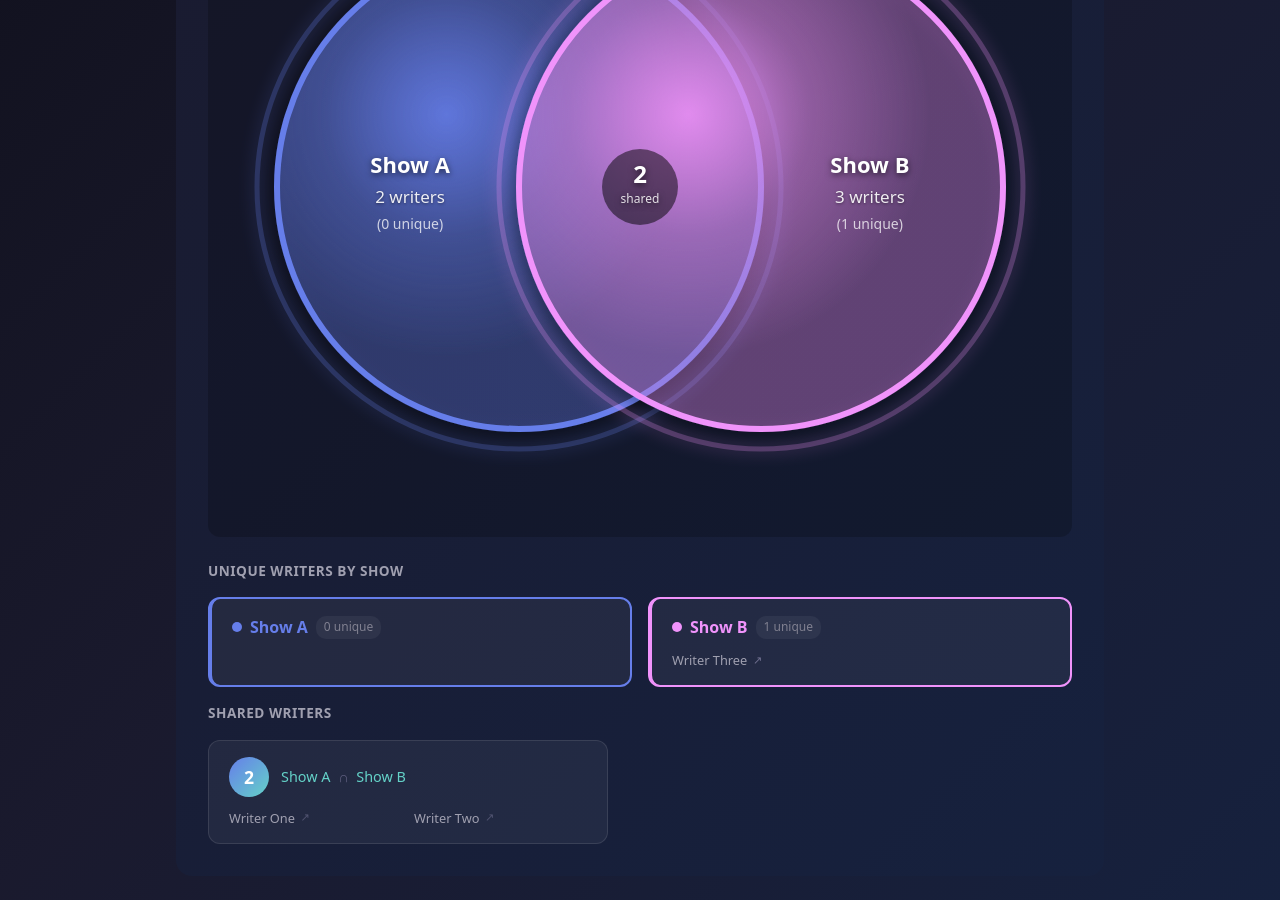
Test case: VennDiagram › writer modal › opens modal when clicking writer name in shared writers list
(page scrolled)
Writer One should be in the shared list
Click the button "Writer One" at [262, 818], box [229,809,295,827]
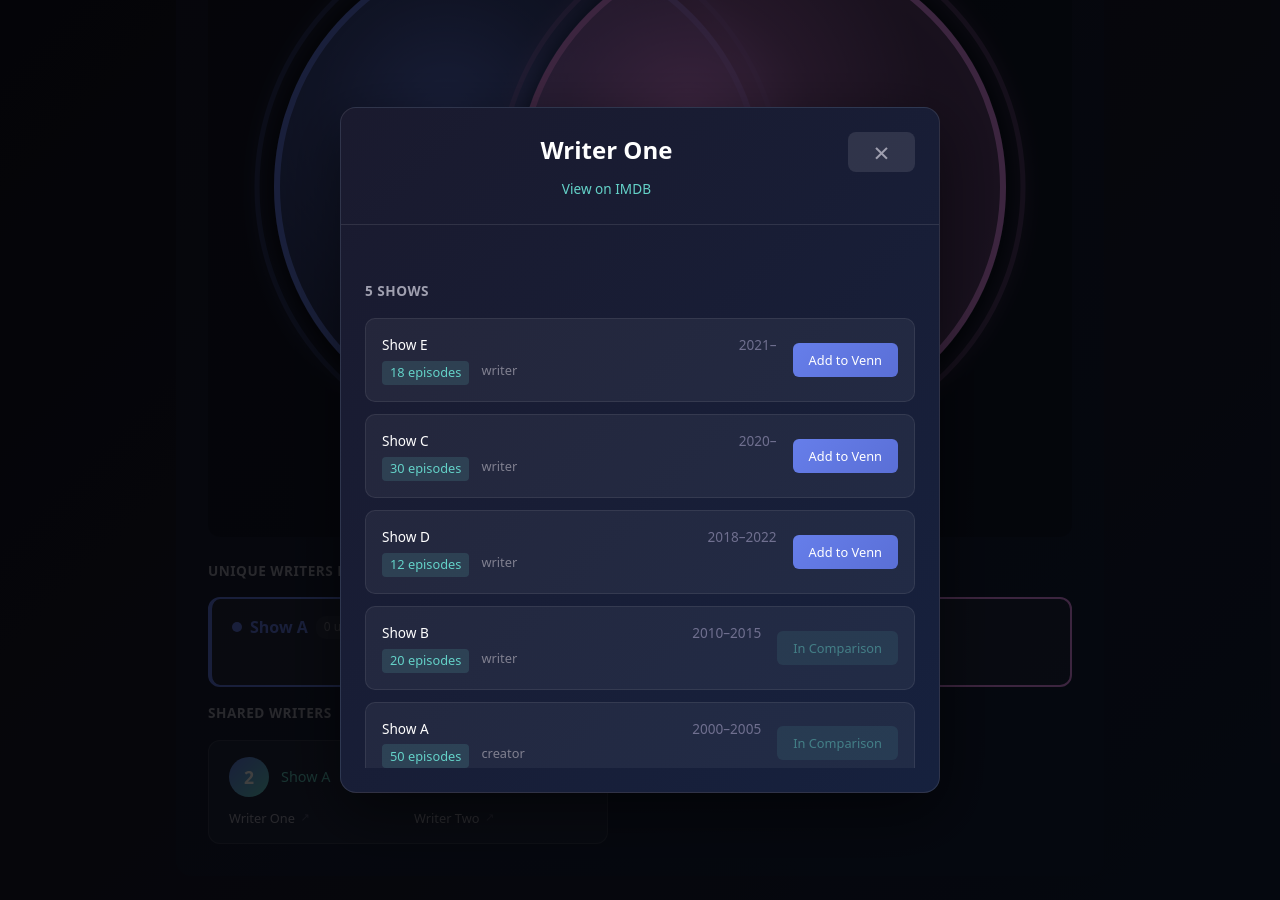
Now the heading "Writer One" is shown, box [540,133,672,166]
